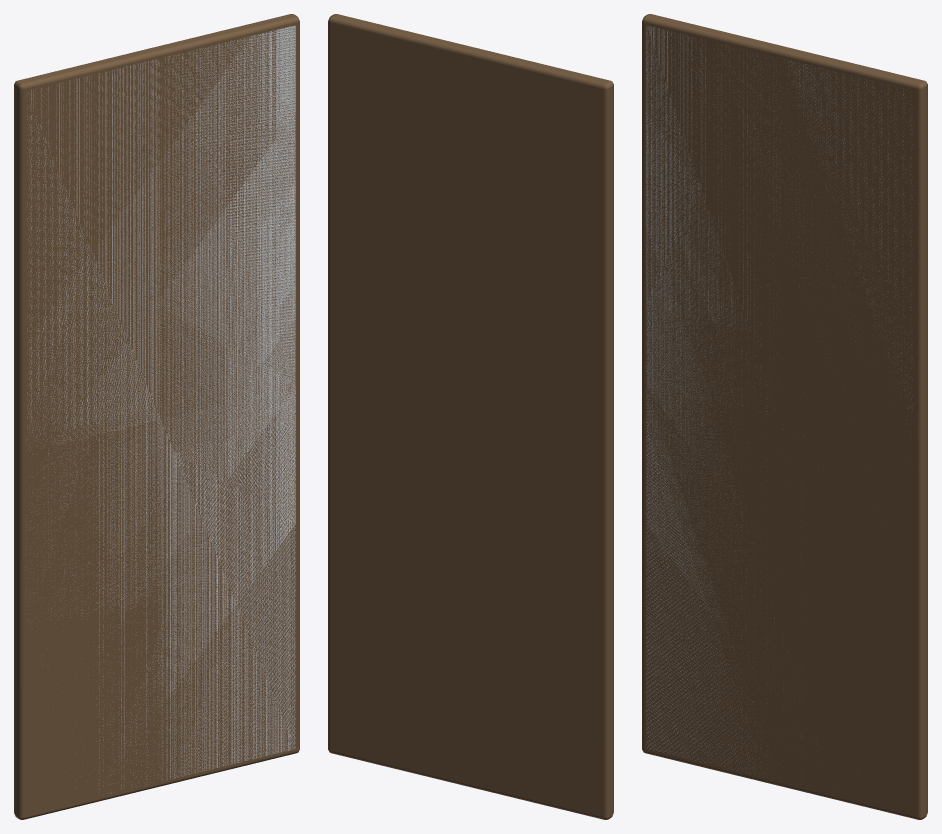
The model's file is obj_decor_full_mirror.glb.
3 renders of one model, left to right at view 1: azimuth 30°, elevation 25°; view 2: azimuth 150°, elevation 25°; view 3: azimuth 330°, elevation 25°, orthographic.
Parts seen in each view (by area): view 1: obj_decor_full_mirror; view 2: obj_decor_full_mirror; view 3: obj_decor_full_mirror.
Boxes of the visible parts, left/top/right/bottom form: obj_decor_full_mirror: left=14, top=14, right=299, bottom=819; obj_decor_full_mirror: left=328, top=14, right=613, bottom=819; obj_decor_full_mirror: left=642, top=14, right=927, bottom=819.
Size of the model in its own units: 0.8 by 2 by 0.04.
